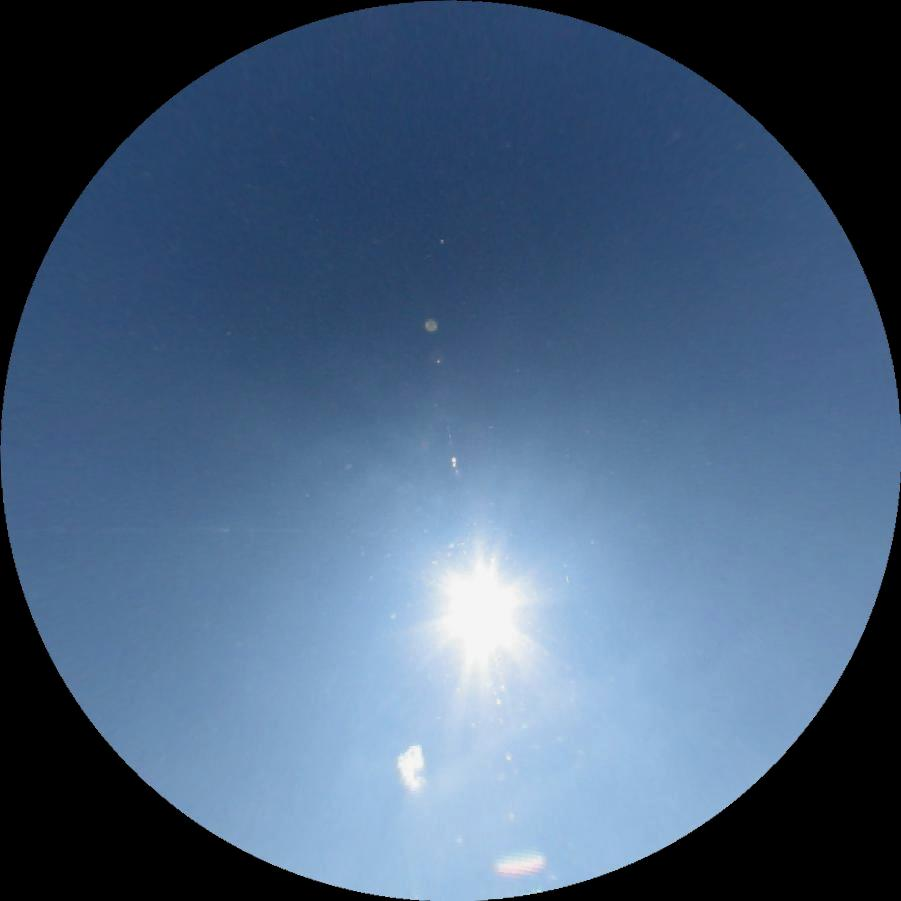sun: (421, 549, 540, 672)
